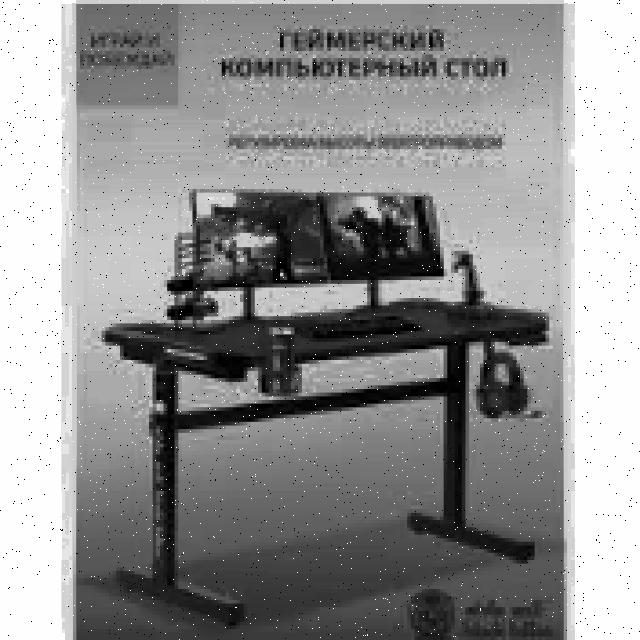table: (102, 291, 545, 625)
